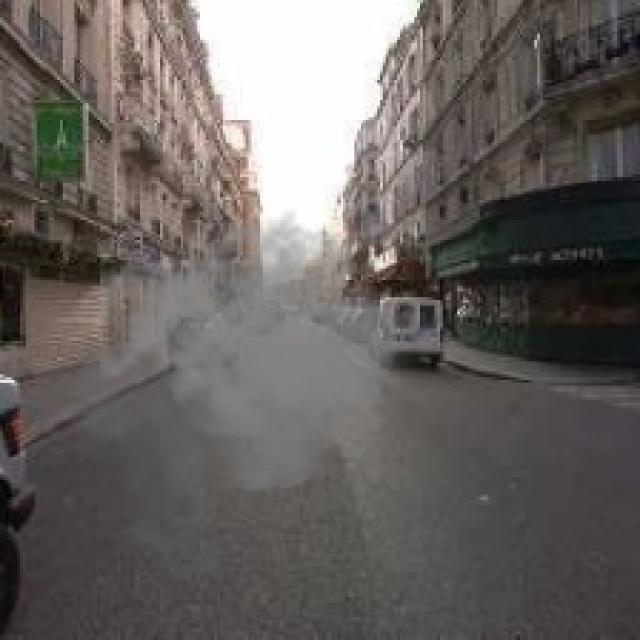Smoke: (54, 208, 426, 592)
